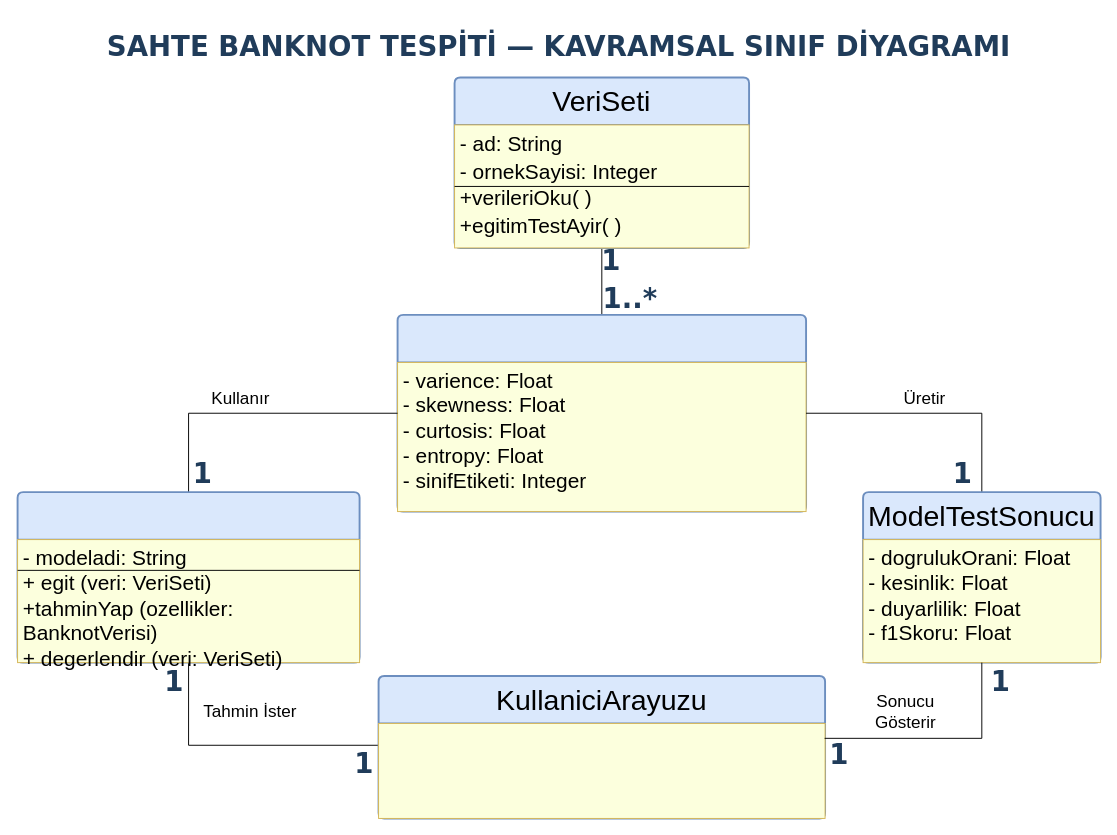
Image size: 1117x835. Some labels were removed from this diagram. Here are the shapes that lost their labels. From the top down, the box of each, then its label:
(396, 314, 807, 512): BanknotVerisi
(16, 491, 360, 663): SiniflandirmaModeli
(378, 722, 825, 818): + kullaniciVerisiAl( ) + tahminSonucunuGoster( ) + grafikleriGoster( )
